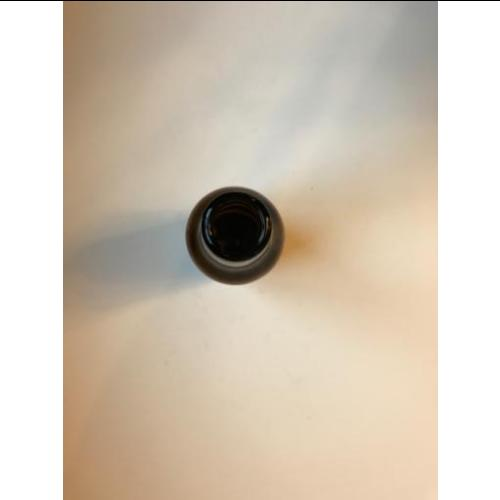glass: (190, 187, 283, 283)
